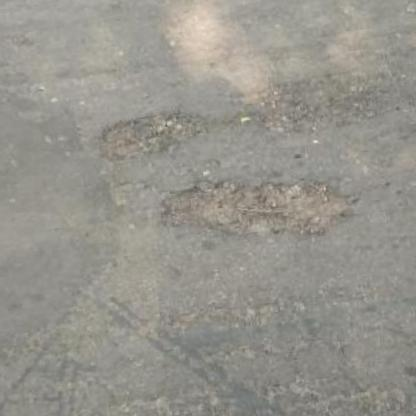pothole: (152, 156, 364, 254), (246, 62, 395, 140), (95, 101, 209, 165)
